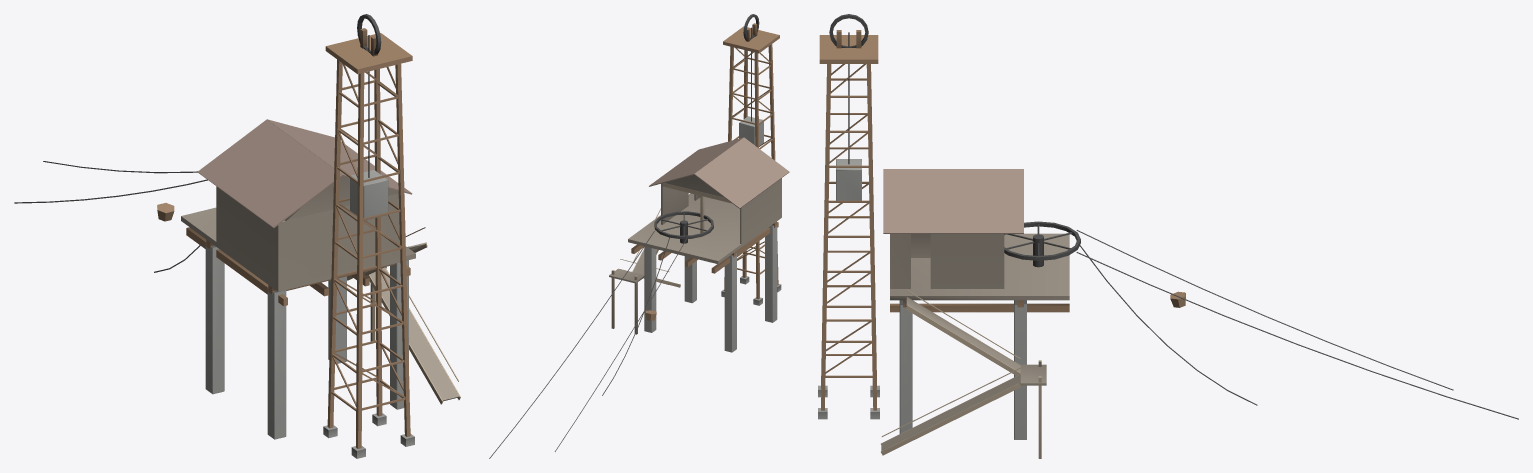
The model's file is ropeway_station_lod1.glb.
3 views of the same model, side by side, from view 1: azimuth 30°, elevation 25°; view 2: azimuth 150°, elevation 25°; view 3: azimuth 270°, elevation 25° (orthographic). The views are drawn at different scales.
Parts seen in each view (by area): view 1: static; view 2: static; view 3: static.
Boxes of the visible parts, left/top/right/bottom form: static: left=14, top=14, right=460, bottom=458; static: left=489, top=14, right=789, bottom=458; static: left=818, top=14, right=1518, bottom=458.
Size of the model in its own units: 12.24 by 26.7 by 42.91.
